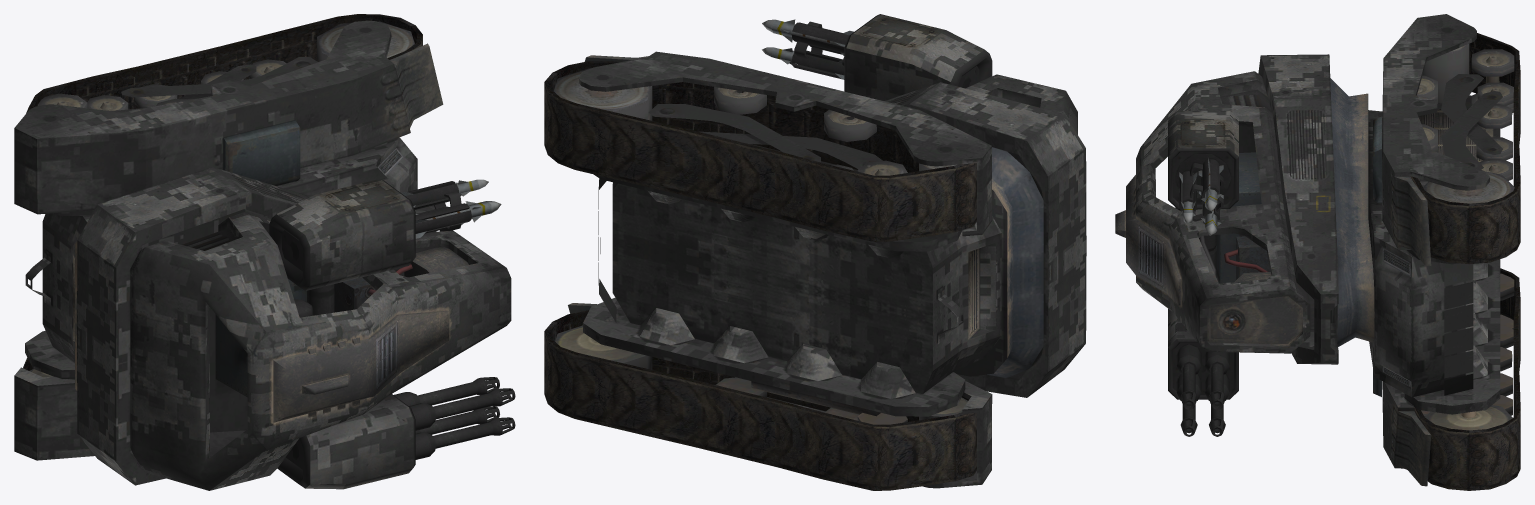
The model's file is veh_t6_drone_tank_alt_LOD1.obj.
The picture shows the model from 3 angles, left to right: view 1: azimuth 30°, elevation 25°; view 2: azimuth 150°, elevation 25°; view 3: azimuth 270°, elevation 25°; orthographic projection. The views are drawn at different scales.
Parts seen in each view (by area): view 1: mtl_veh_t6_drone_tank_alt, mtl_veh_t6_asd_tread_left, mtl_veh_t6_drone_tank_wheels, mtl_veh_t6_drone_tank_missile; view 2: mtl_veh_t6_drone_tank_alt, mtl_veh_t6_asd_tread_left, mtl_veh_t6_drone_tank_wheels, mtl_veh_t6_drone_tank_missile; view 3: mtl_veh_t6_drone_tank_alt, mtl_veh_t6_asd_tread_left, mtl_veh_t6_drone_tank_wheels, mtl_veh_t6_drone_tank_missile.
Boxes of the visible parts, <box> form: mtl_veh_t6_drone_tank_alt: <box>14,20,515,490</box>; mtl_veh_t6_asd_tread_left: <box>23,14,422,370</box>; mtl_veh_t6_drone_tank_wheels: <box>29,21,414,377</box>; mtl_veh_t6_drone_tank_missile: <box>401,179,501,238</box>; mtl_veh_t6_drone_tank_alt: <box>568,14,1086,488</box>; mtl_veh_t6_asd_tread_left: <box>544,61,976,490</box>; mtl_veh_t6_drone_tank_wheels: <box>553,68,967,424</box>; mtl_veh_t6_drone_tank_missile: <box>762,19,853,79</box>; mtl_veh_t6_drone_tank_alt: <box>1115,14,1502,486</box>; mtl_veh_t6_asd_tread_left: <box>1410,33,1520,490</box>; mtl_veh_t6_drone_tank_wheels: <box>1417,44,1514,430</box>; mtl_veh_t6_drone_tank_missile: <box>1179,158,1223,235</box>.
Bounding box in the file's own units: 104 × 76.81 × 94.9.
